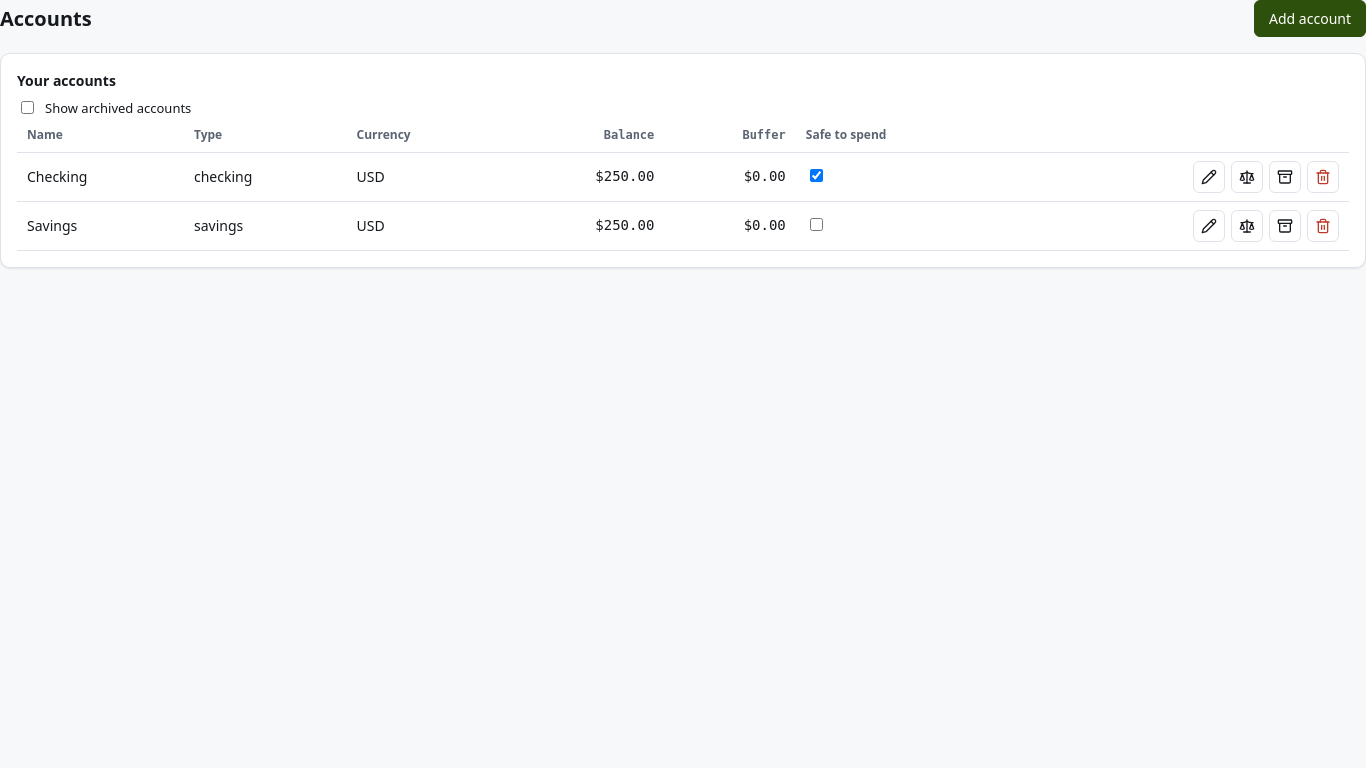
it: the Accounts page › raises the add toast once the dialog has closed
Expected: the text "Checking" is shown, [27,167,88,186]
Click the button "Add account" at x=1310, y=18, box [1254,0,1365,37]
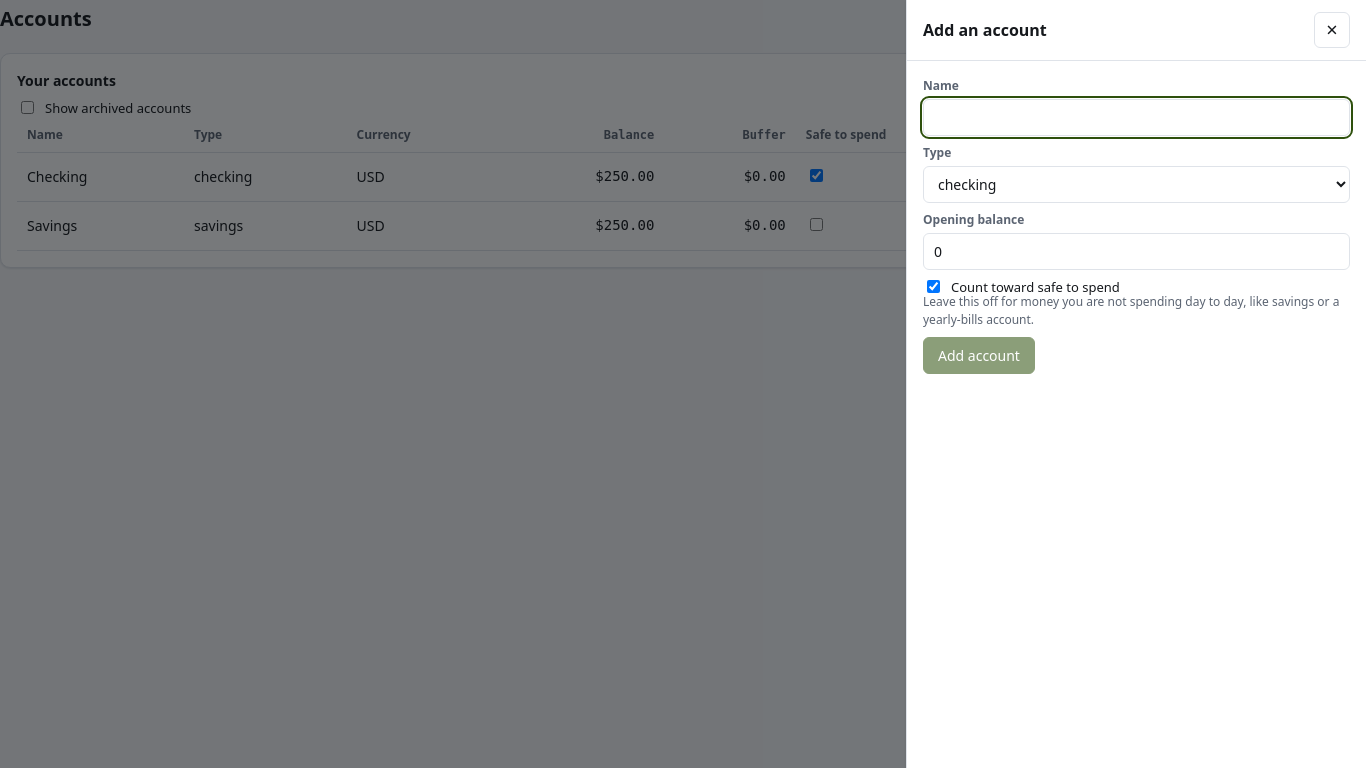
Type "Holiday" into the field labelled "Name" at x=1136, y=118, box [923,99,1350,136]
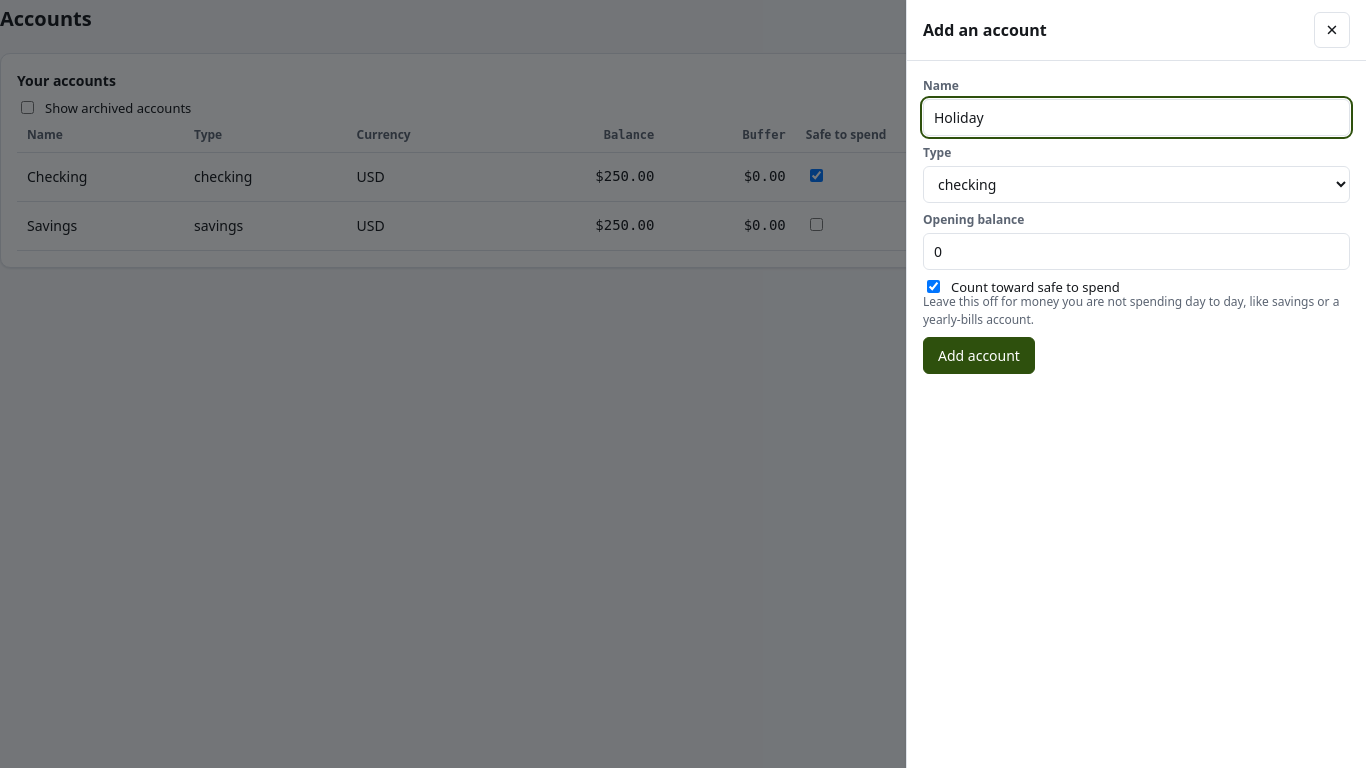
Click the button "Add account" at x=979, y=355, box [923,337,1035,374]
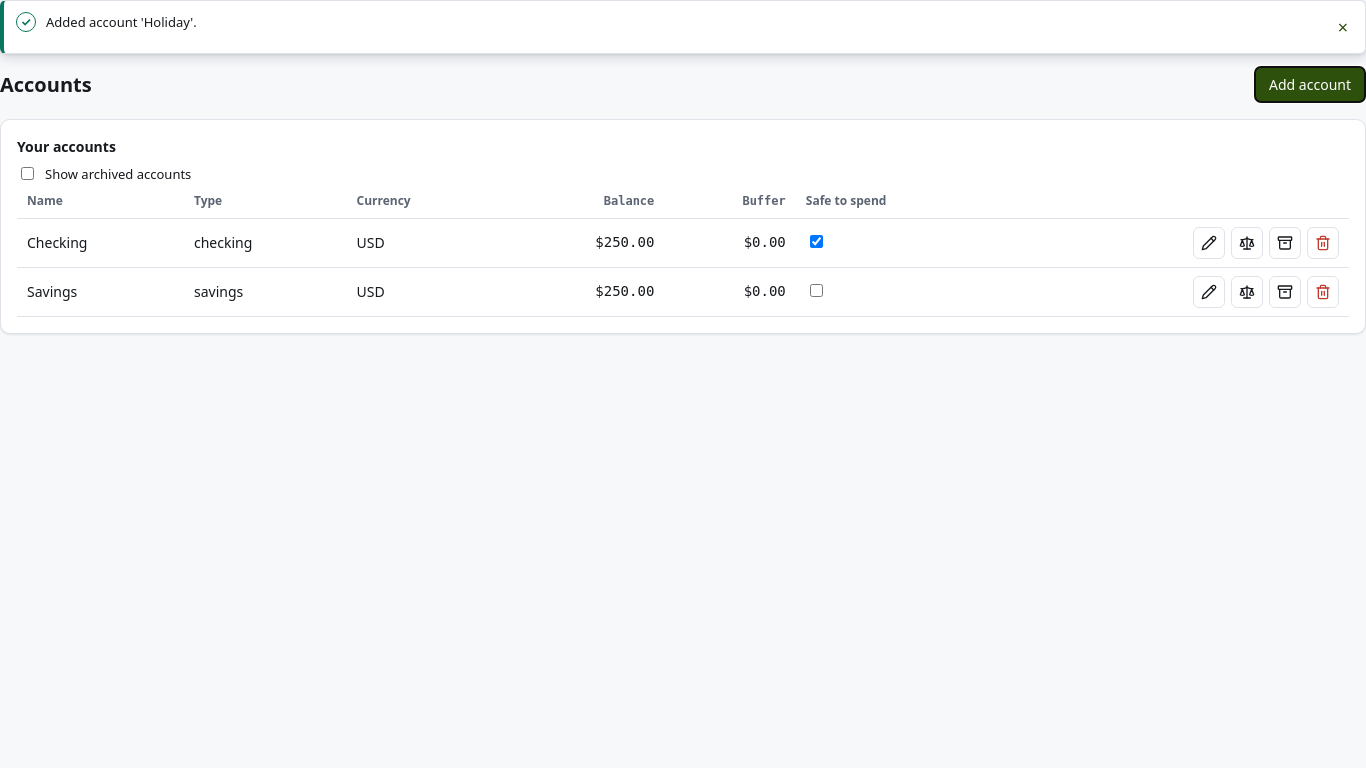
Now the dialog is gone
